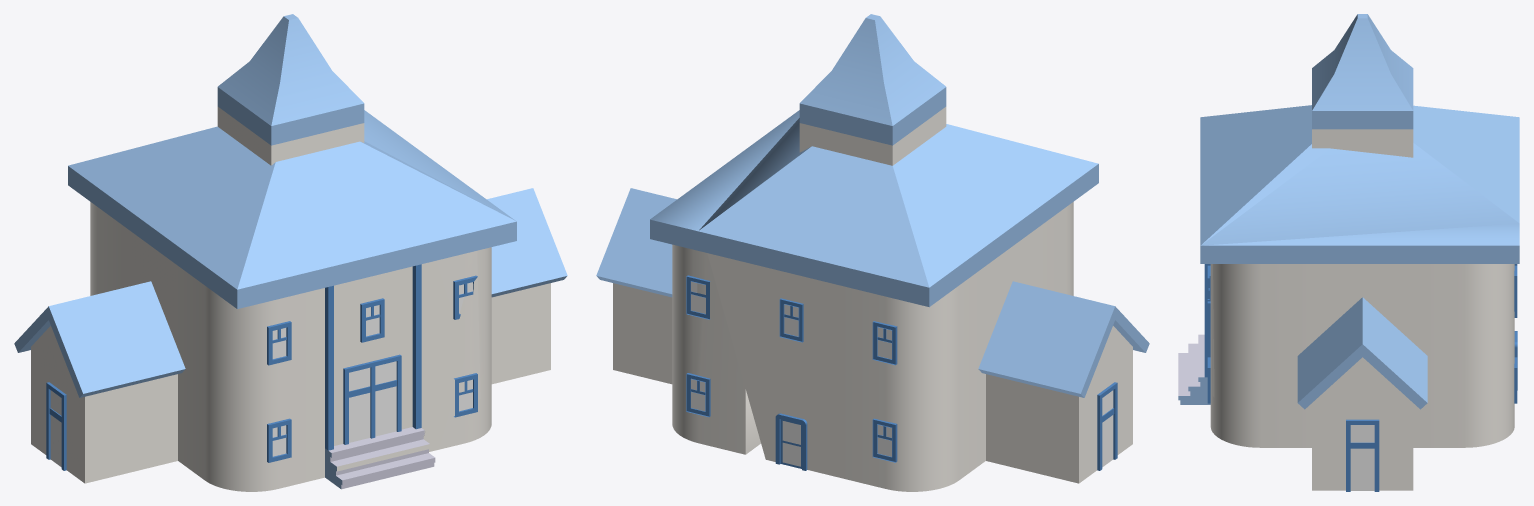
File: Final City Hall Shop.fbx
3 views of the same model, side by side, from view 1: azimuth 30°, elevation 25°; view 2: azimuth 150°, elevation 25°; view 3: azimuth 270°, elevation 25° (orthographic). The views are drawn at different scales.
Parts seen in each view (by area): view 1: polySurface353, polySurface354; view 2: polySurface353, polySurface354; view 3: polySurface354, polySurface353.
Part boxes in pixels (box(x1,y1,x2,y2)): polySurface353: box(14, 14, 516, 491); polySurface354: box(364, 110, 567, 451); polySurface353: box(698, 14, 1149, 491); polySurface354: box(596, 110, 799, 454); polySurface354: box(1200, 223, 1519, 491); polySurface353: box(1178, 14, 1519, 404).
Bounding box in the file's own units: 520 × 400 × 337.
